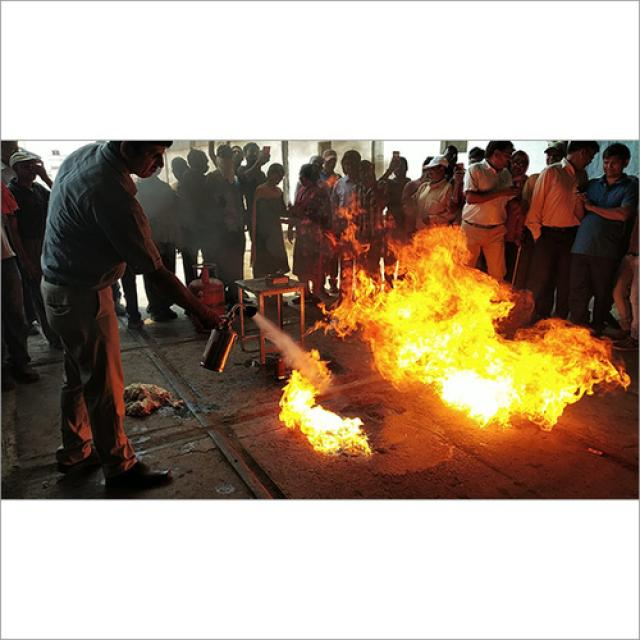fire: (324, 224, 627, 434), (280, 369, 372, 456)
